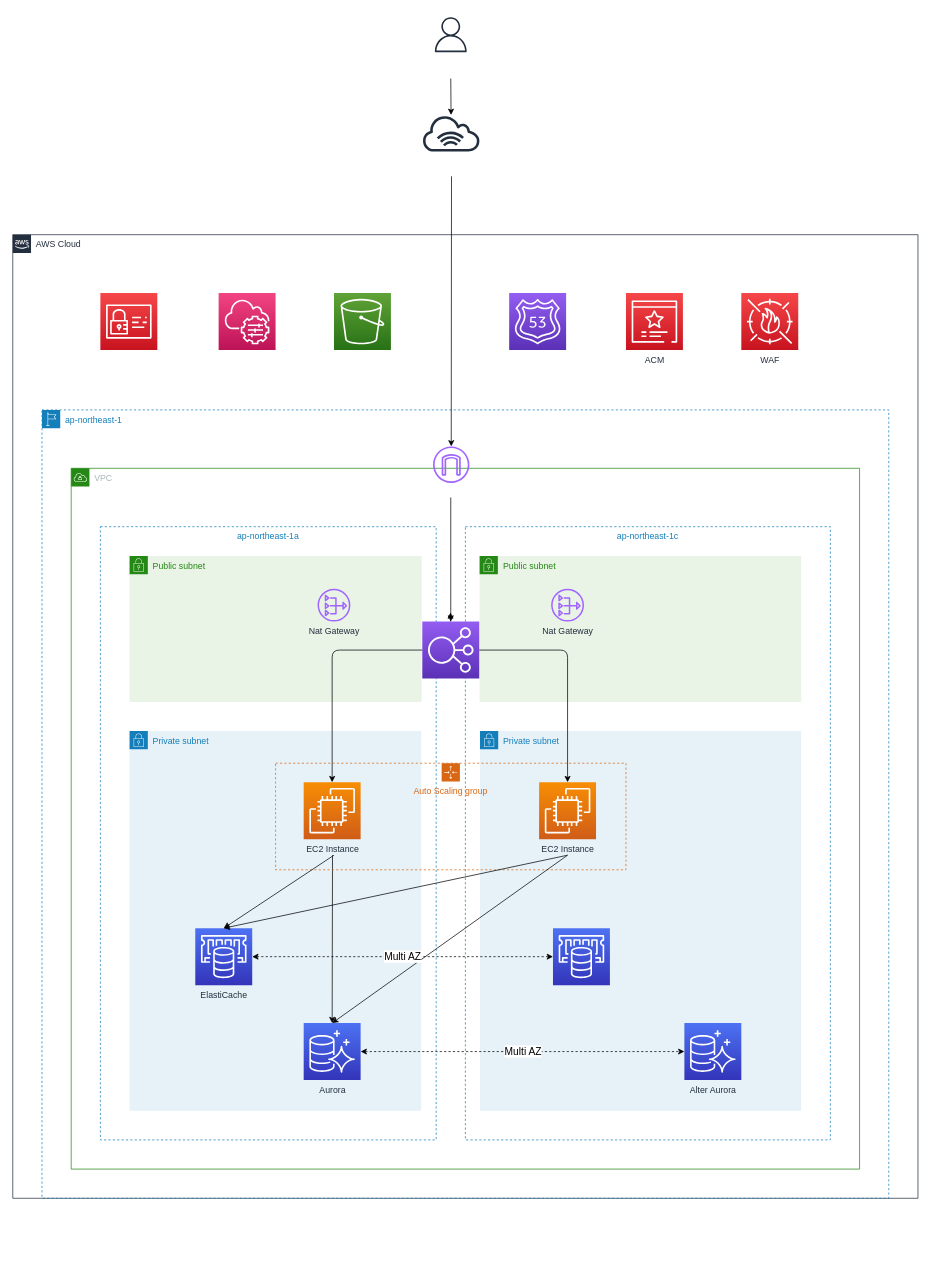
This 931x1275 diagram has some shape labels left out. The centre of each missing label's shape, as x and y in pixels:
ALB: point 450,650
Alter ElastiCache: point 581,956
IAM: point 128,321
Internet: point 450,133
Internet Gateway: point 451,464
Route53: point 537,321
S3: point 362,321
System Manager: point 247,321
User: point 450,34
